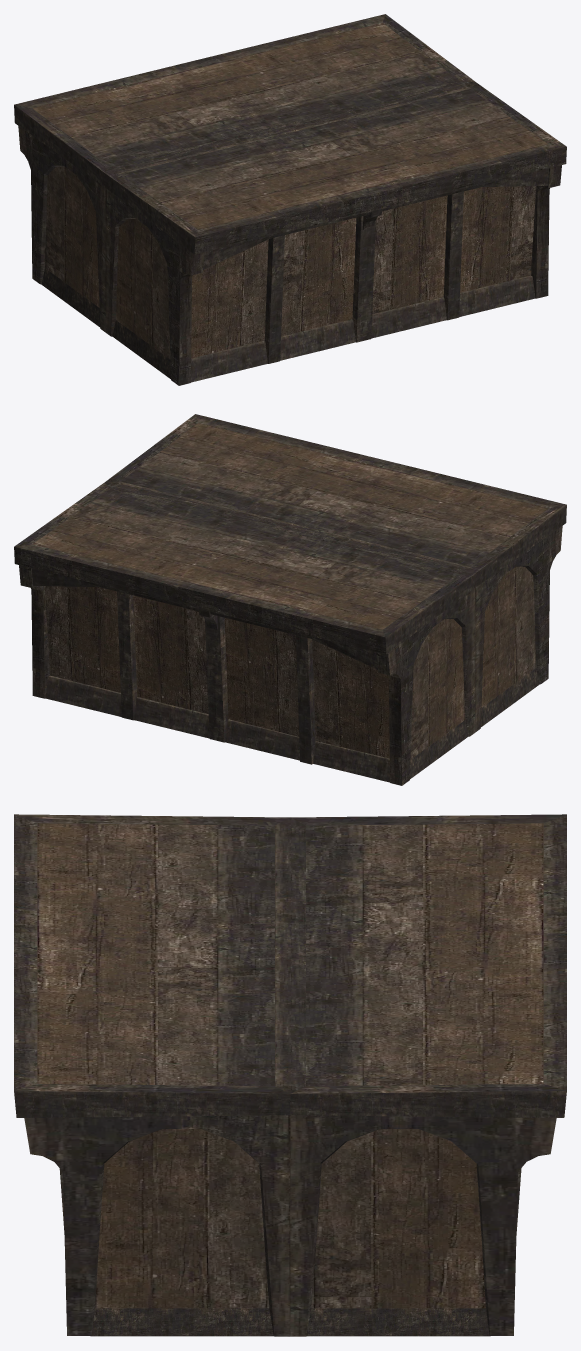
Rendered from eso_gu4_WoodCounter-transformed.glb.
The picture shows the model from 3 angles, top to bottom: view 1: azimuth 30°, elevation 25°; view 2: azimuth 150°, elevation 25°; view 3: azimuth 270°, elevation 25°; orthographic projection. The views are drawn at different scales.
Visible parts, largest first — view 1: default; view 2: default; view 3: default.
Boxes of the visible parts, bbox=[...] form: default: bbox=[14, 14, 566, 385]; default: bbox=[14, 414, 566, 785]; default: bbox=[14, 814, 566, 1336].
Size of the model in its own units: 3.17 by 1.32 by 2.68.
1 material, 1 textured.
